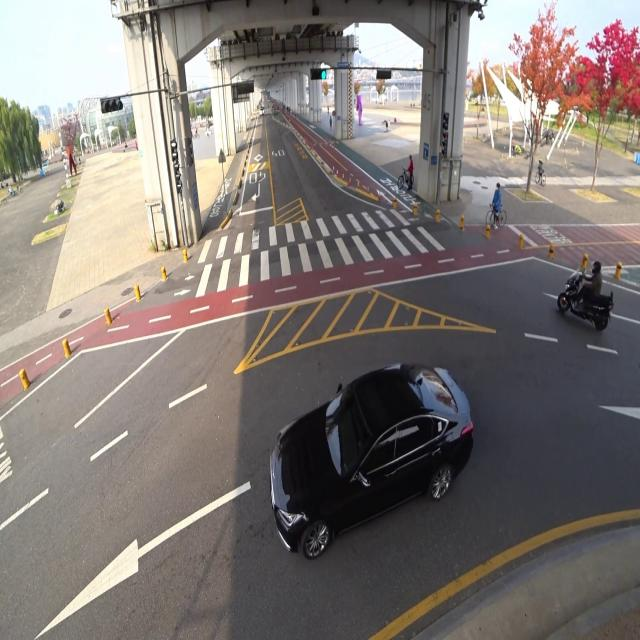Car: (261, 326, 483, 578)
Motorcycle: (556, 259, 614, 331)
